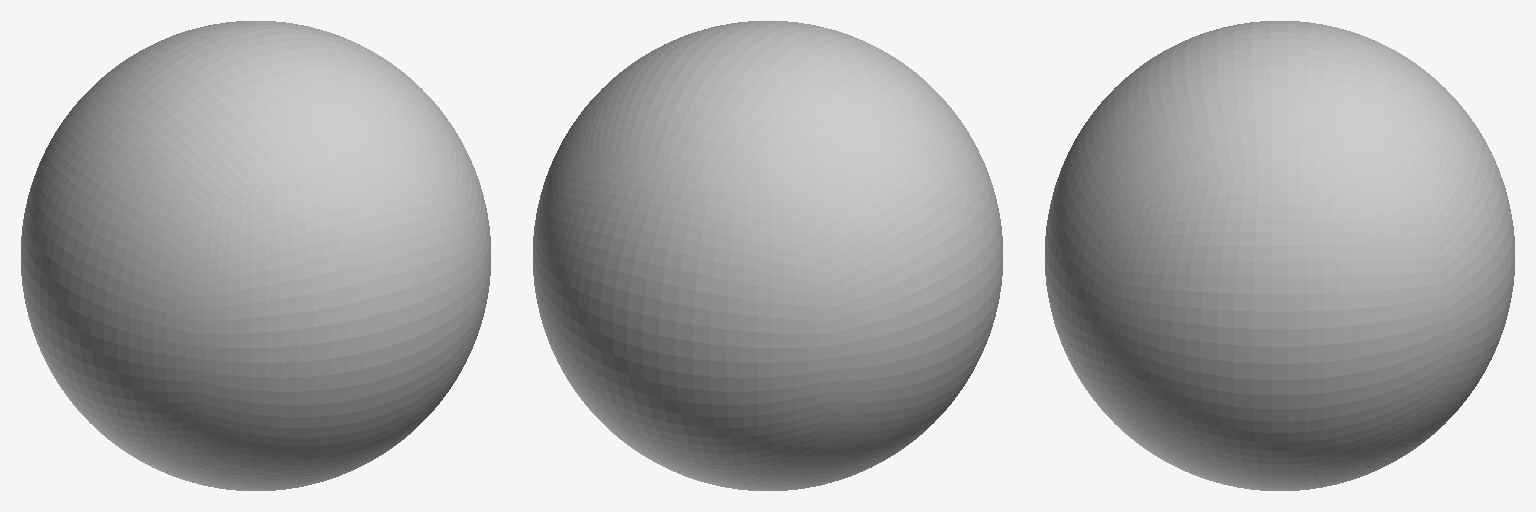
File: luna.obj
The picture shows the model from 3 angles: view 1: azimuth 30°, elevation 25°; view 2: azimuth 150°, elevation 25°; view 3: azimuth 270°, elevation 25°; orthographic projection.
Visible parts, largest first — view 1: Mars_LOD0_MarsLOD1_0; view 2: Mars_LOD0_MarsLOD1_0; view 3: Mars_LOD0_MarsLOD1_0.
Part boxes in pixels (bbox=[...]): Mars_LOD0_MarsLOD1_0: bbox=[21, 21, 490, 490]; Mars_LOD0_MarsLOD1_0: bbox=[533, 21, 1002, 490]; Mars_LOD0_MarsLOD1_0: bbox=[1045, 21, 1514, 490].
Size of the model in its own units: 4.99 by 4.99 by 4.99.